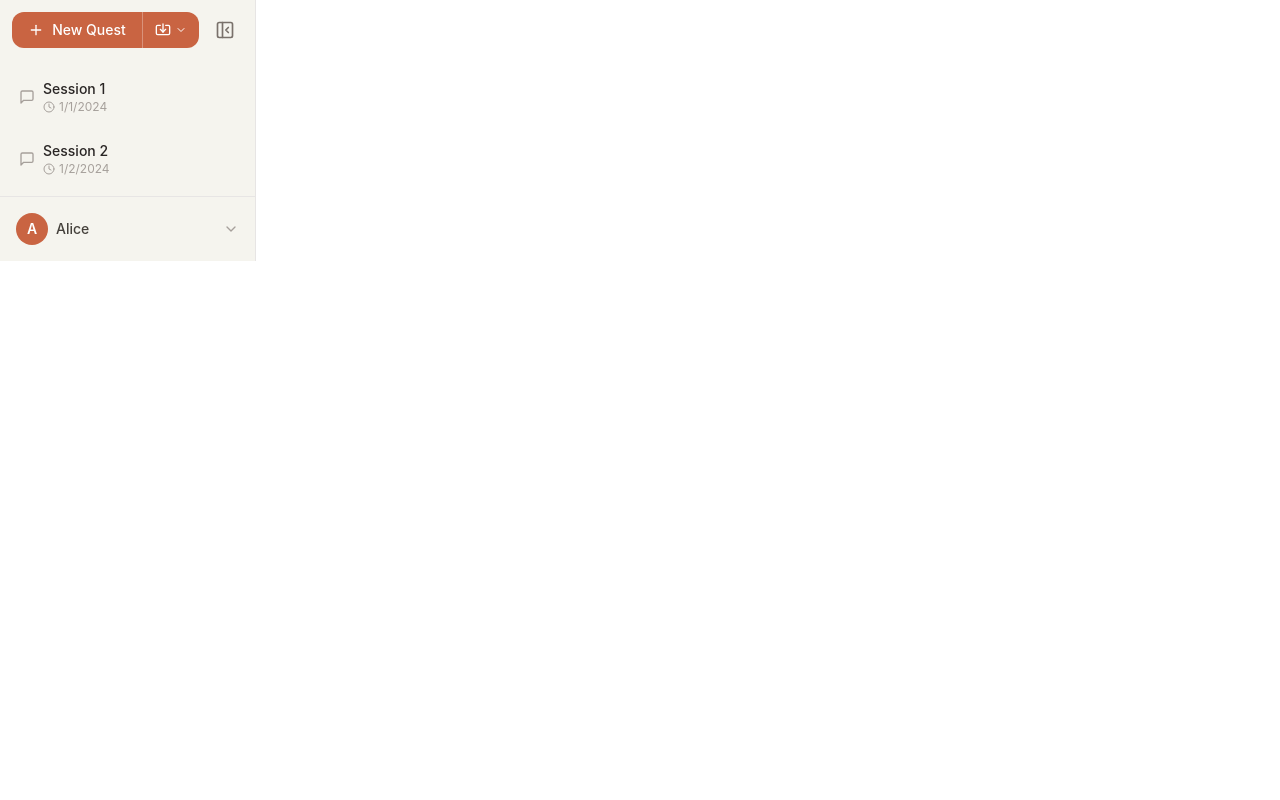
Test: SessionSidebar › opens the import dialog from the attached secondary action by mouse and keyboard
Click the button named "Import Quest" at x=170, y=30, box [142,12,199,48]
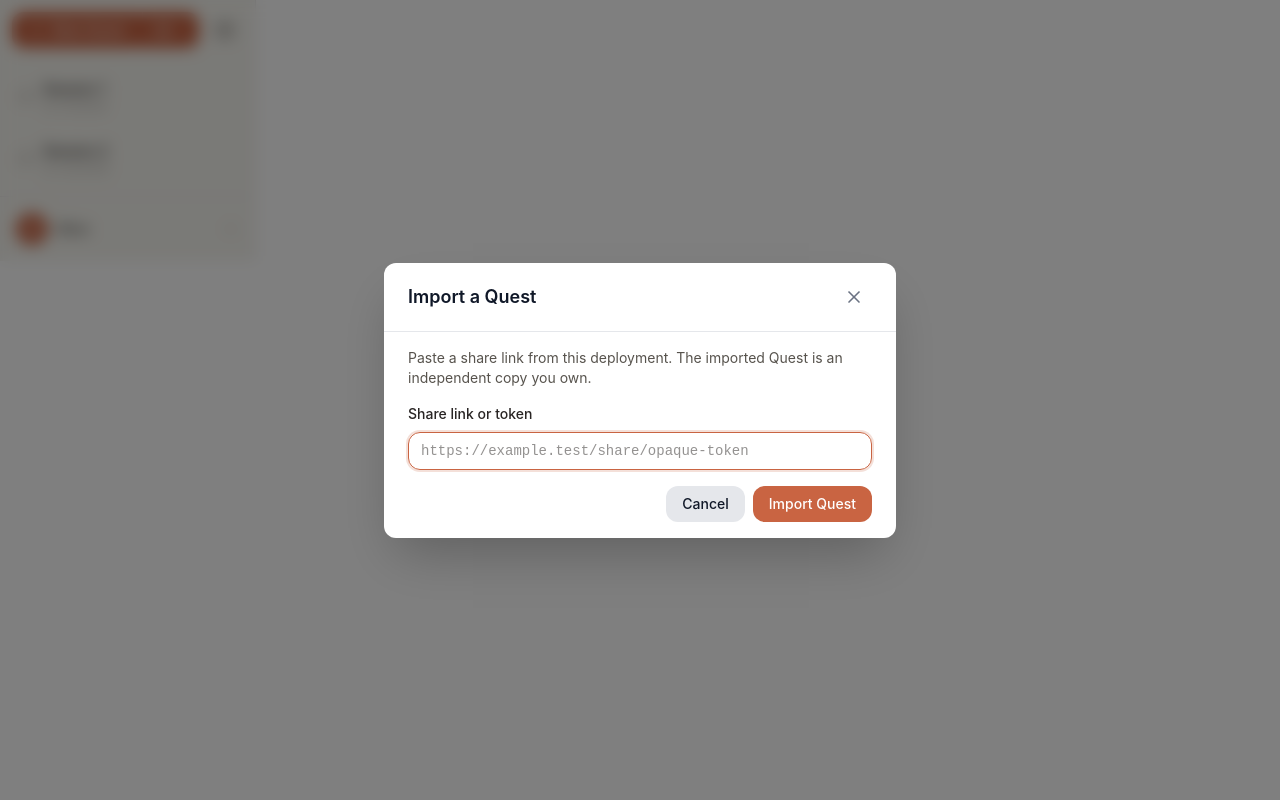
Now the dialog is shown, box [384,262,896,538]
Click the button "Cancel" at x=706, y=504, box [666,486,745,522]
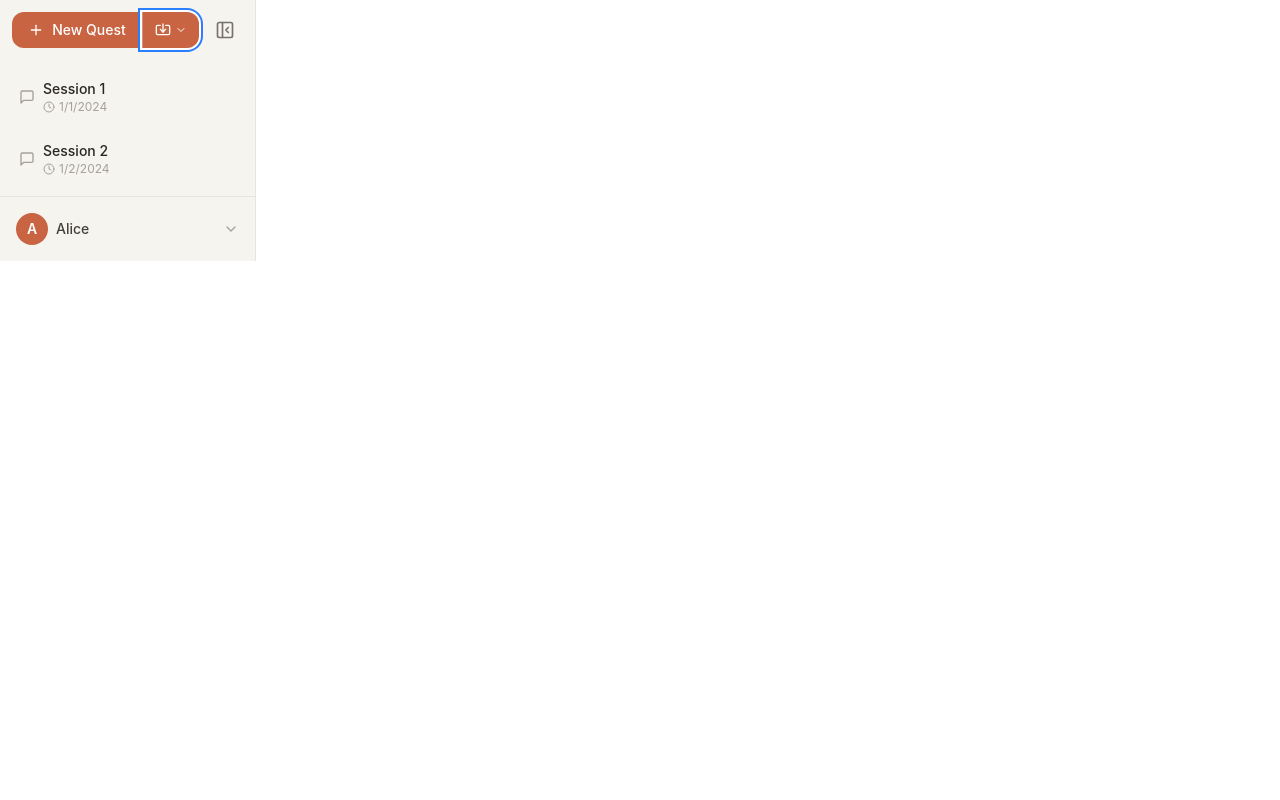
Press Enter
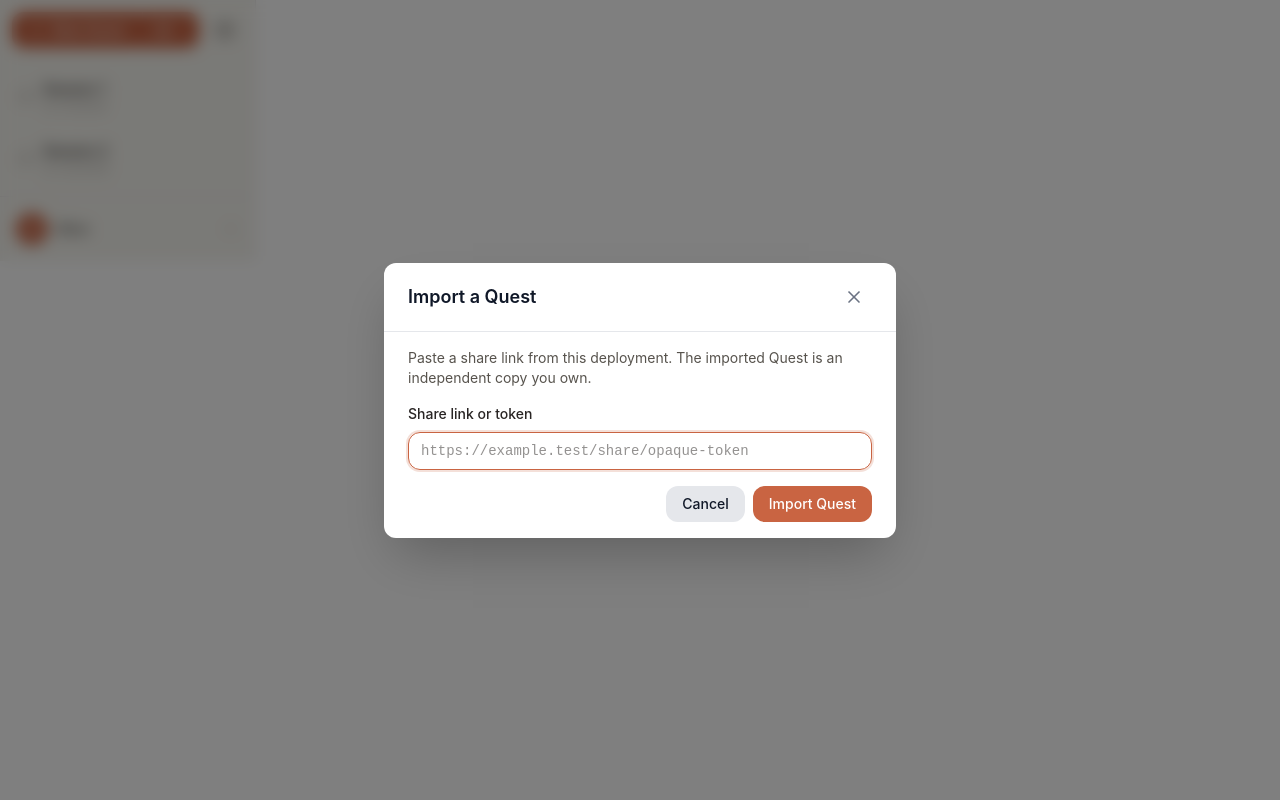
Now the dialog is shown, box [384,262,896,538]
